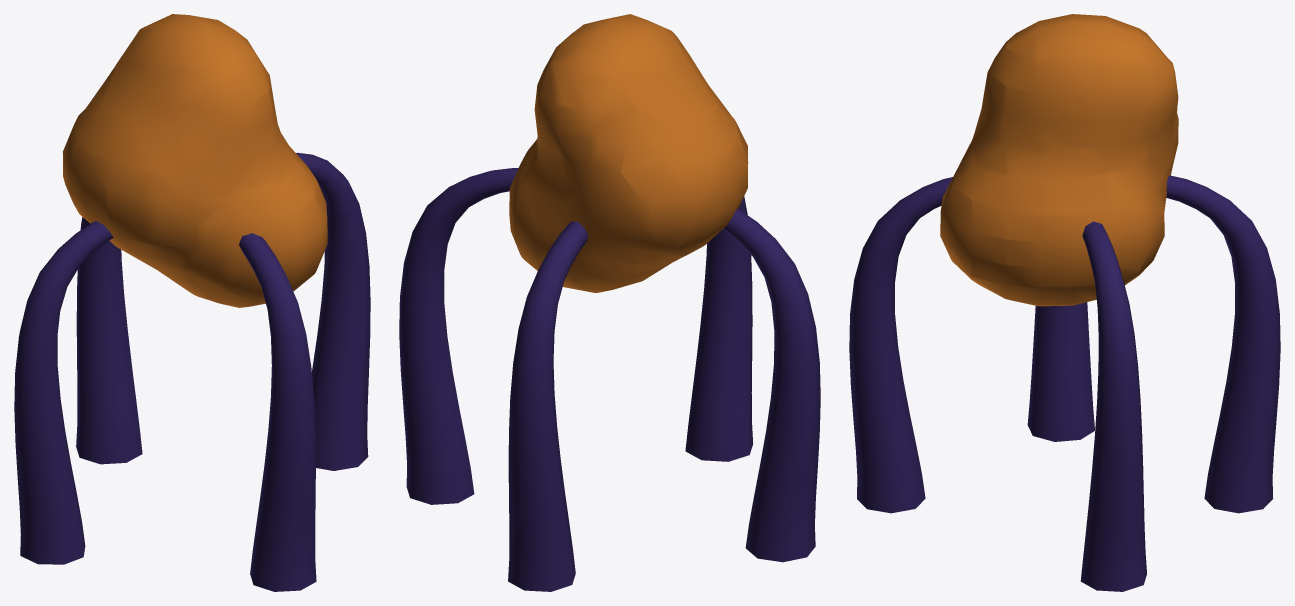
Rendered from usk_Tree_Blob.glb.
The picture shows the model from 3 angles, left to right: view 1: azimuth 30°, elevation 25°; view 2: azimuth 150°, elevation 25°; view 3: azimuth 270°, elevation 25°; orthographic projection. The views are drawn at different scales.
Visible parts, largest first — view 1: Tree_Blob_3; view 2: Tree_Blob_3; view 3: Tree_Blob_3.
Part boxes in pixels (<box>): Tree_Blob_3: <box>14,14,370,591</box>; Tree_Blob_3: <box>399,14,820,591</box>; Tree_Blob_3: <box>849,14,1280,591</box>.
Bounding box in the file's own units: 2.8 × 3.42 × 2.77.
Materials: 1 (1 with a texture image).
